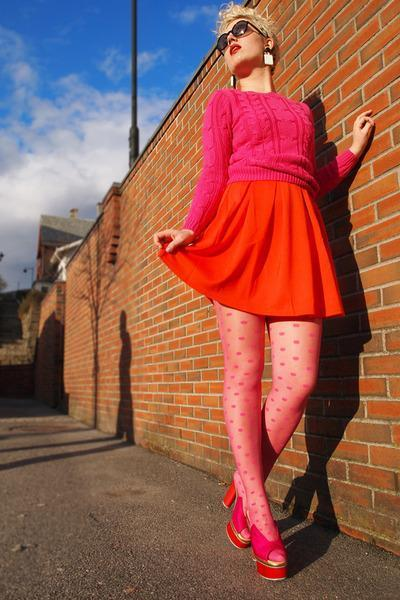jacket: (183, 88, 358, 227)
shoe: (228, 516, 285, 577)
skirt: (160, 180, 343, 335)
sunglass: (221, 0, 255, 35)
